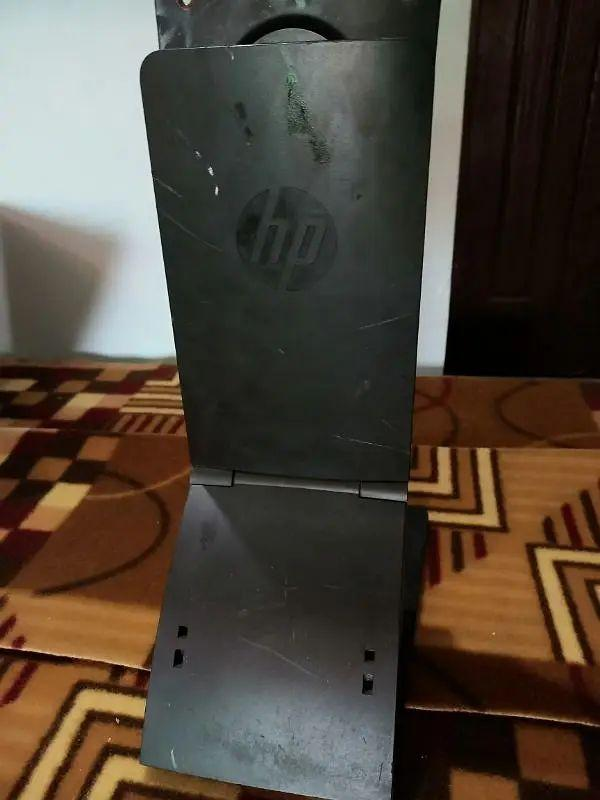electronic: (114, 0, 466, 800)
